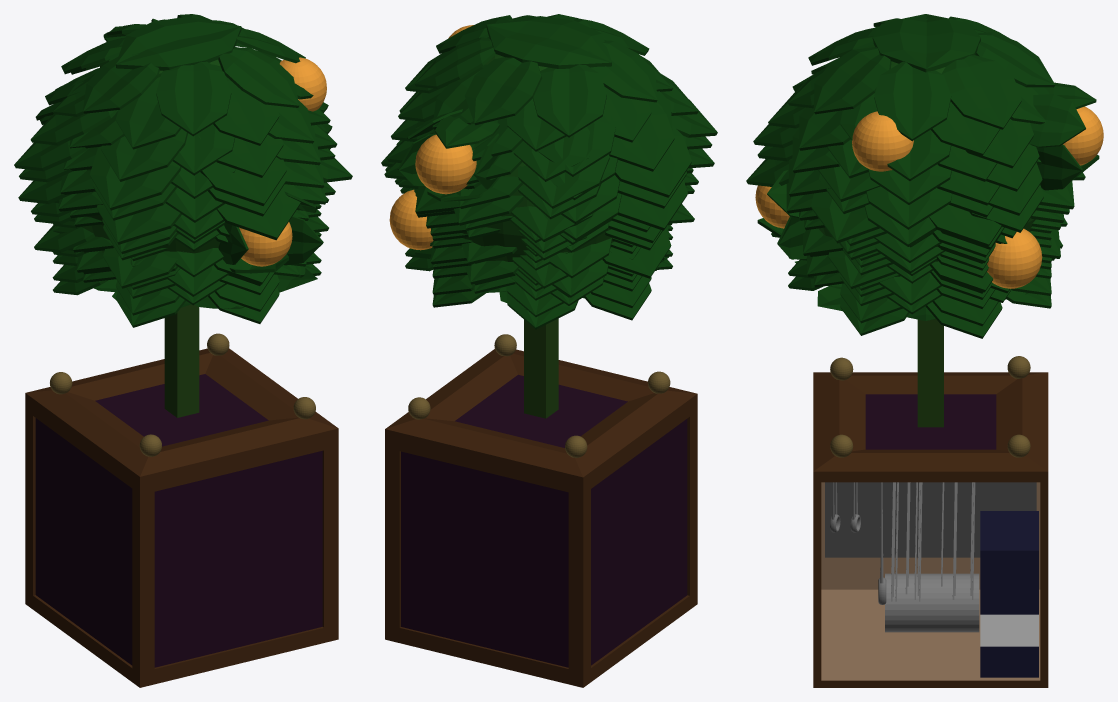
The model's file is Orangenbaum.Automat.glb.
3 views of the same model, side by side, from view 1: azimuth 30°, elevation 25°; view 2: azimuth 150°, elevation 25°; view 3: azimuth 270°, elevation 25° (orthographic). The views are drawn at different scales.
Parts seen in each view (by area): view 1: Cube; view 2: Cube; view 3: Cube, Cube.002.
Part boxes in pixels (bbox=[...]): Cube: bbox=[14, 14, 352, 687]; Cube: bbox=[381, 14, 717, 687]; Cube: bbox=[746, 14, 1103, 687]; Cube.002: bbox=[825, 482, 1036, 557].
Size of the model in its own units: 2.92 by 5.66 by 3.04.
